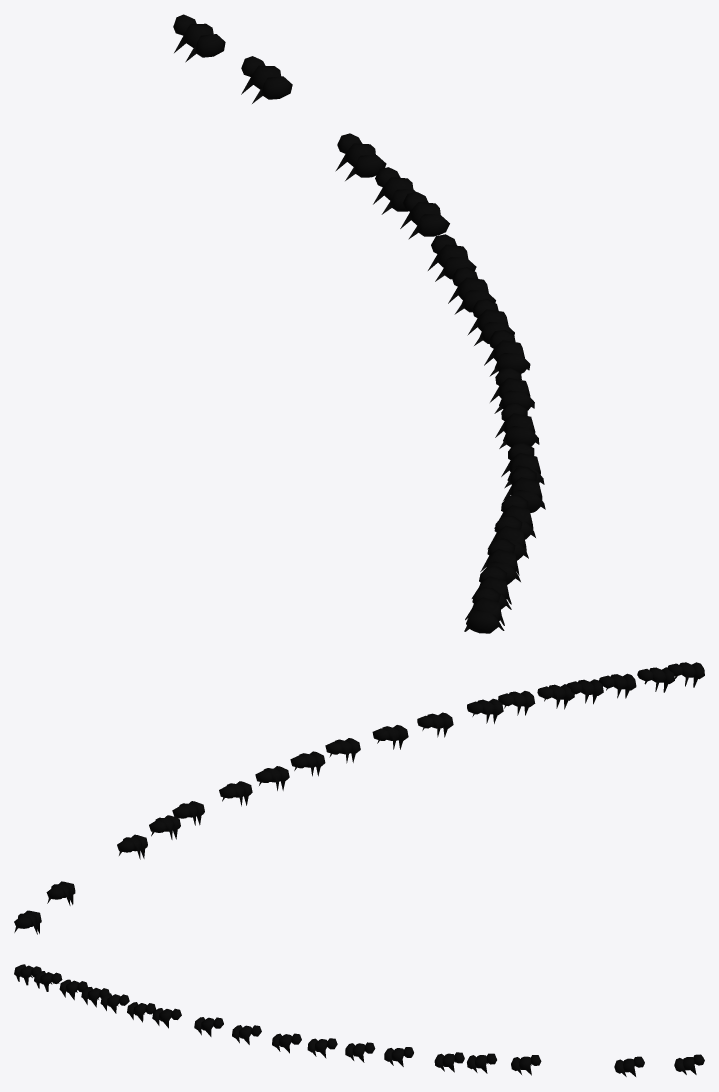
The model's file is ants_fn_2.glb.
3 renders of one model, top to bottom at view 1: azimuth 30°, elevation 25°; view 2: azimuth 150°, elevation 25°; view 3: azimuth 270°, elevation 25°, orthographic. The views are drawn at different scales.
Parts seen in each view (by area): view 1: Ant.017, Ant.015, Ant.016, Ant.014, Ant.001, Ant.008, Ant.010, Ant.009, Ant.013, Ant.012, Ant, Ant.011 (+2 smaller); view 2: Ant.003, Ant.002, Ant.001, Ant.006, Ant.007, Ant.008, Ant.005, Ant.004, Ant.010, Ant.009, Ant.011, Ant.013 (+6 smaller); view 3: Ant.015, Ant.017, Ant, Ant.014, Ant.016, Ant.012, Ant.011, Ant.013, Ant.009, Ant.010, Ant.008, Ant.006 (+6 smaller).
Part boxes in pixels (left/top/right/bottom): Ant.017: left=173, top=14, right=225, bottom=62; Ant.015: left=241, top=56, right=292, bottom=103; Ant.016: left=400, top=192, right=449, bottom=239; Ant.014: left=335, top=133, right=386, bottom=180; Ant.001: left=464, top=587, right=504, bottom=633; Ant.008: left=495, top=403, right=539, bottom=448; Ant.010: left=484, top=330, right=530, bottom=376; Ant.009: left=490, top=367, right=534, bottom=413; Ant.013: left=428, top=234, right=476, bottom=281; Ant.012: left=448, top=267, right=495, bottom=314; Ant: left=373, top=167, right=415, bottom=214; Ant.011: left=467, top=299, right=514, bottom=345; Ant.003: left=599, top=673, right=636, bottom=698; Ant.002: left=637, top=667, right=674, bottom=692; Ant.001: left=667, top=662, right=704, bottom=687; Ant.006: left=498, top=691, right=535, bottom=715; Ant.007: left=467, top=698, right=503, bottom=723; Ant.008: left=417, top=712, right=453, bottom=737; Ant.005: left=537, top=684, right=574, bottom=709; Ant.004: left=566, top=679, right=603, bottom=704; Ant.010: left=325, top=738, right=360, bottom=763; Ant.009: left=372, top=725, right=408, bottom=749; Ant.011: left=290, top=751, right=325, bottom=776; Ant.013: left=219, top=781, right=252, bottom=806; Ant.015: left=614, top=1056, right=644, bottom=1076; Ant.017: left=674, top=1054, right=704, bottom=1074; Ant: left=467, top=1053, right=496, bottom=1073; Ant.014: left=511, top=1055, right=541, bottom=1075; Ant.016: left=434, top=1052, right=464, bottom=1072; Ant.012: left=345, top=1042, right=375, bottom=1062; Ant.011: left=307, top=1038, right=337, bottom=1058; Ant.013: left=384, top=1047, right=413, bottom=1066; Ant.009: left=232, top=1025, right=261, bottom=1044; Ant.010: left=272, top=1033, right=301, bottom=1053; Ant.008: left=194, top=1017, right=223, bottom=1036; Ant.006: left=127, top=1002, right=156, bottom=1022.
Size of the model in its own units: 3.83 by 0.2961 by 10.85.
Materials: 1 (1 with a texture image).
